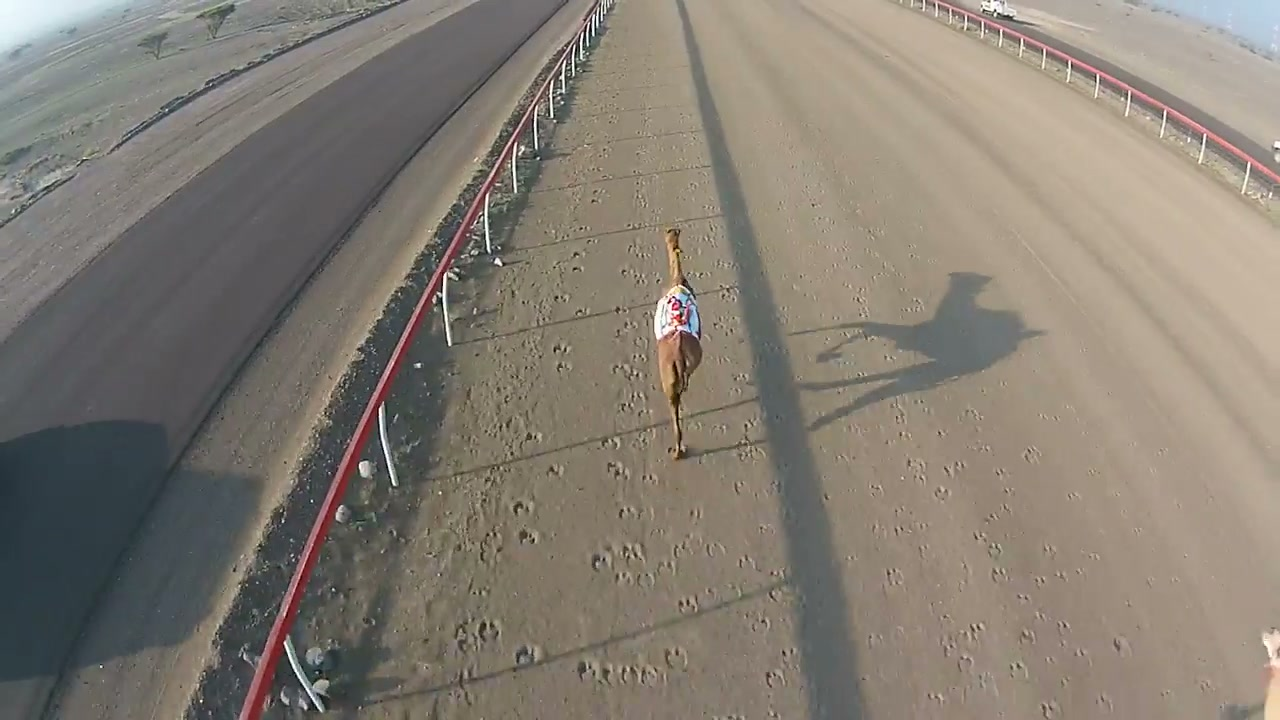animal_footprint: (460, 242, 568, 677), (575, 246, 668, 700)
